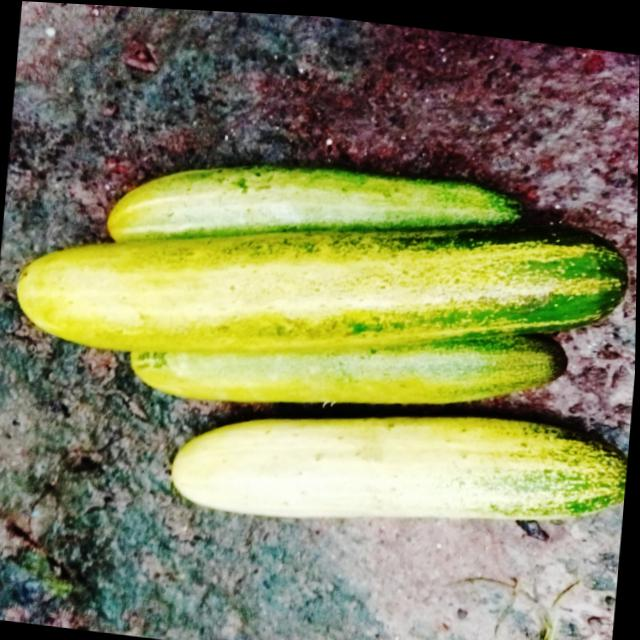Fresh-Cucumber: (8, 120, 636, 446), (169, 376, 630, 558)
